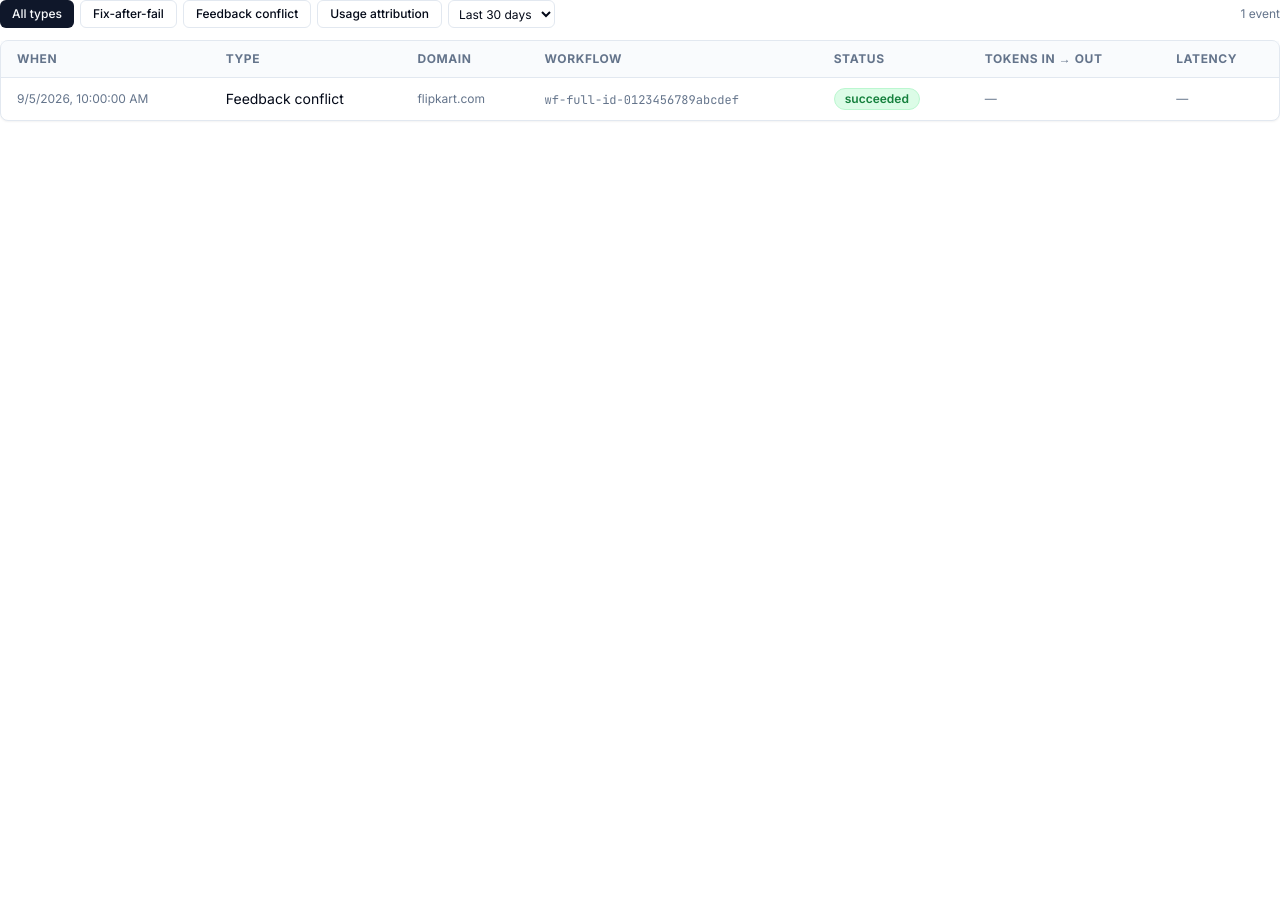
Test: TriggerDrawer — opening one event › titles the drawer with the event id and fetches that event
Click the text "Feedback conflict": [306, 99] box x1=210 y1=78 x2=401 y2=120
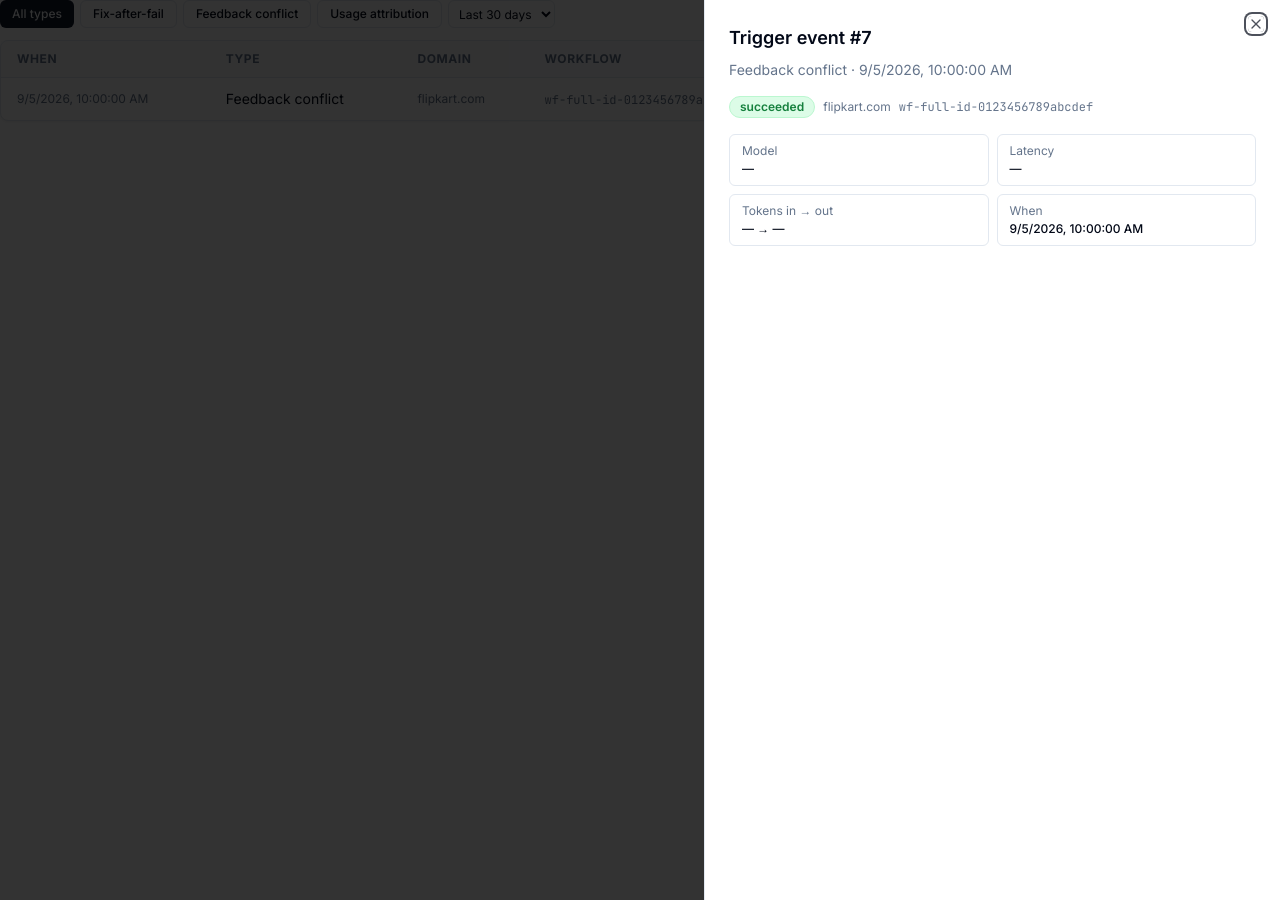
expect the heading "Trigger event #7" is shown: met, box x1=729 y1=27 x2=872 y2=48
